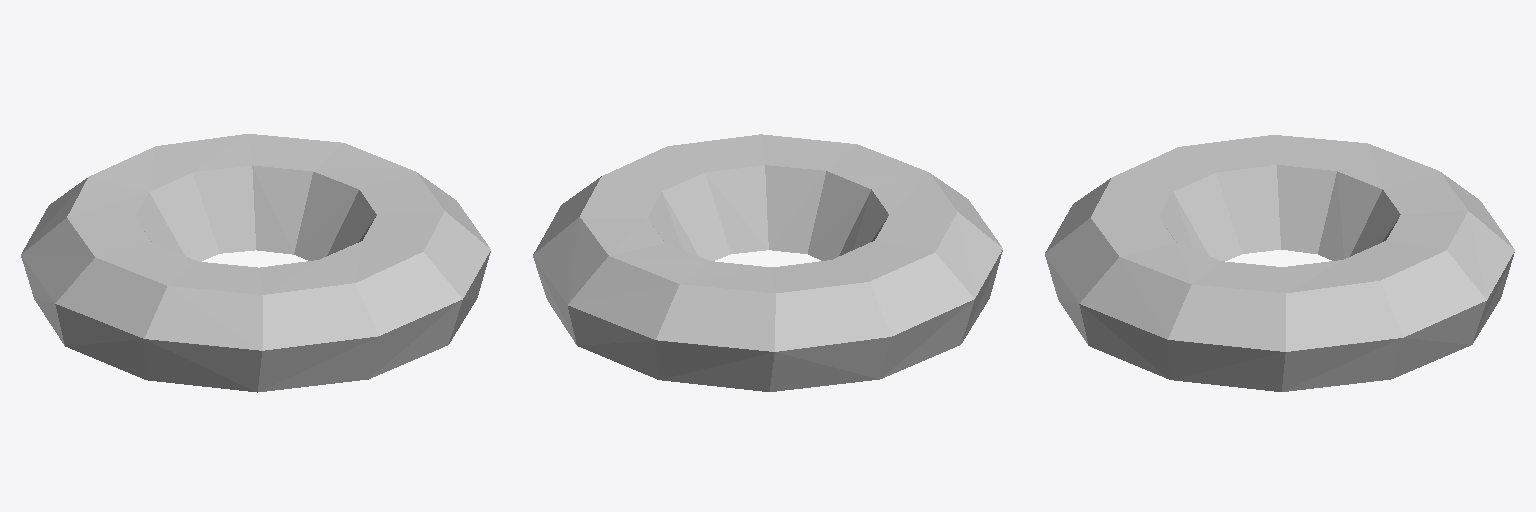
The model's file is Tube_Block.obj.
3 views of the same model, side by side, from view 1: azimuth 30°, elevation 25°; view 2: azimuth 150°, elevation 25°; view 3: azimuth 270°, elevation 25° (orthographic).
Parts seen in each view (by area): view 1: Torus.004; view 2: Torus.004; view 3: Torus.004.
Part boxes in pixels (x1,y1,x2,y2): Torus.004: (21, 134, 490, 392); Torus.004: (533, 134, 1002, 391); Torus.004: (1045, 135, 1514, 391).
Size of the model in its own units: 0.8582 by 0.172 by 0.8582.